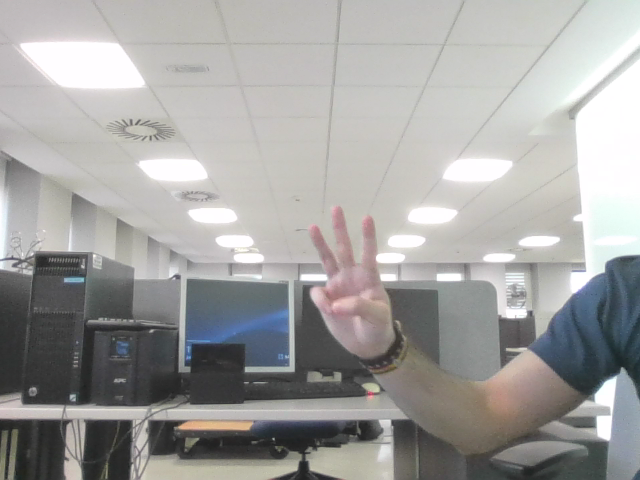3Dedos: (316, 219, 376, 327)
